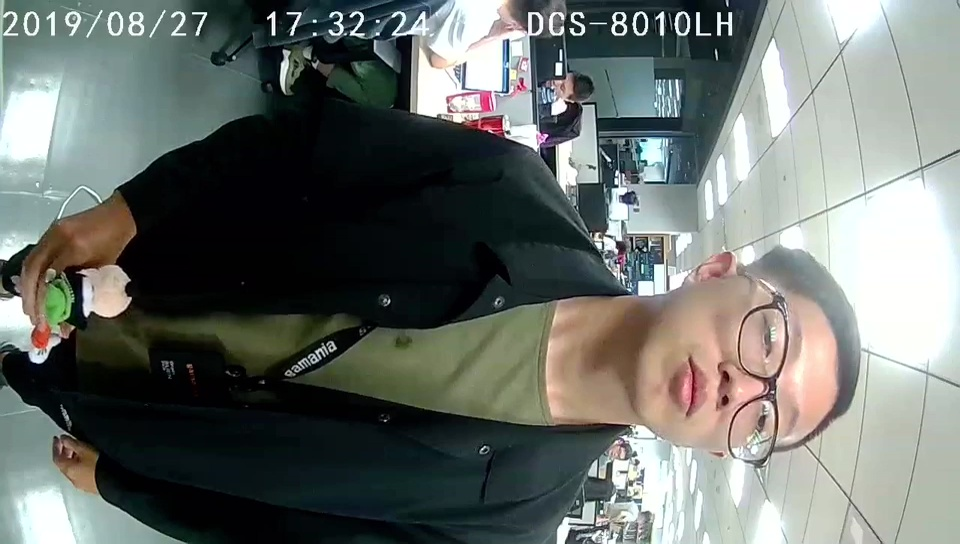goofy: (27, 264, 133, 365)
